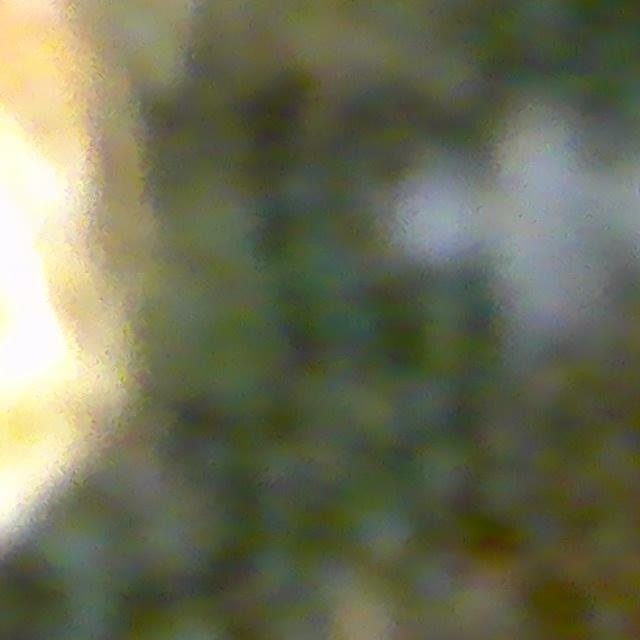SeaGrape: (489, 187, 631, 329), (393, 158, 494, 283), (477, 96, 581, 196), (338, 487, 421, 570), (410, 434, 479, 505)
